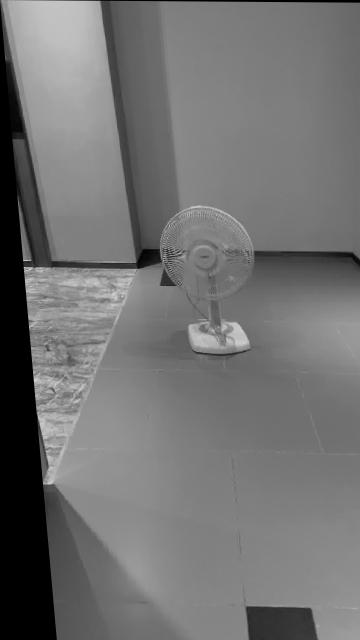Fan: (155, 205, 249, 355)
